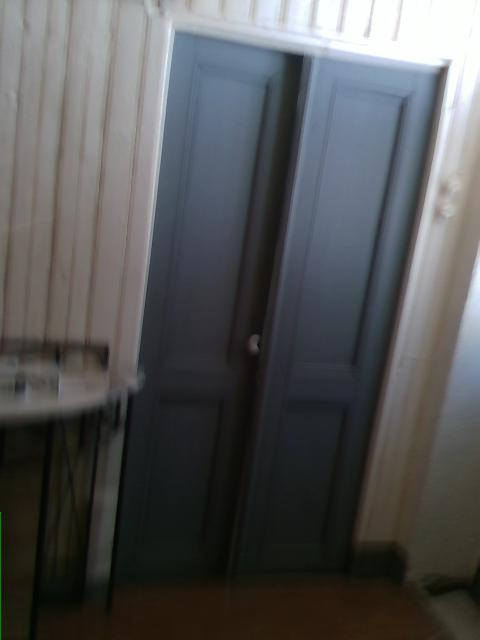door: (104, 19, 459, 591)
